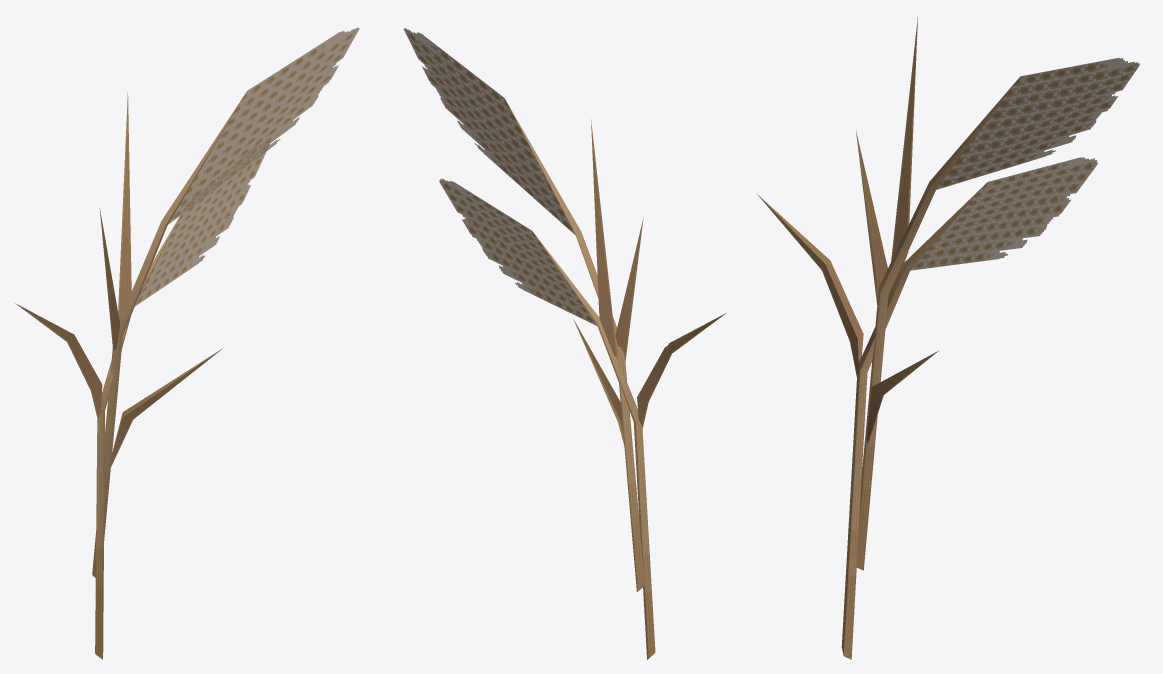
The model's file is 016f_Pampas_Grass.glb.
The picture shows the model from 3 angles, left to right: view 1: azimuth 30°, elevation 25°; view 2: azimuth 150°, elevation 25°; view 3: azimuth 330°, elevation 25°; orthographic projection. The views are drawn at different scales.
Parts seen in each view (by area): view 1: part_0; view 2: part_0; view 3: part_0.
Boxes of the visible parts, left/top/right/bottom form: part_0: left=15, top=27, right=359, bottom=659; part_0: left=403, top=28, right=726, bottom=659; part_0: left=757, top=17, right=1139, bottom=659.
Size of the model in its own units: 0.3815 by 0.6203 by 0.0878.
1 material, 1 textured.
